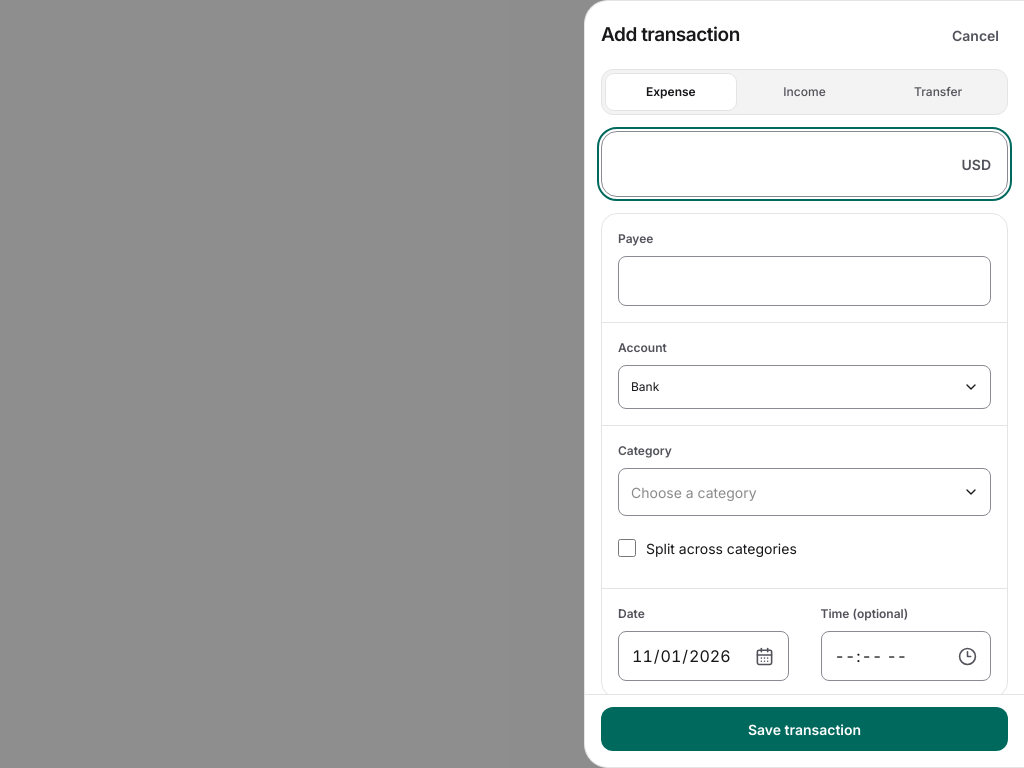
Test: has no New category button: the Category field itself offers to create a missing one
Step 1. Type "Coffee" into the dropdown labelled "Category" → (804, 492), box [618,468,991,516]
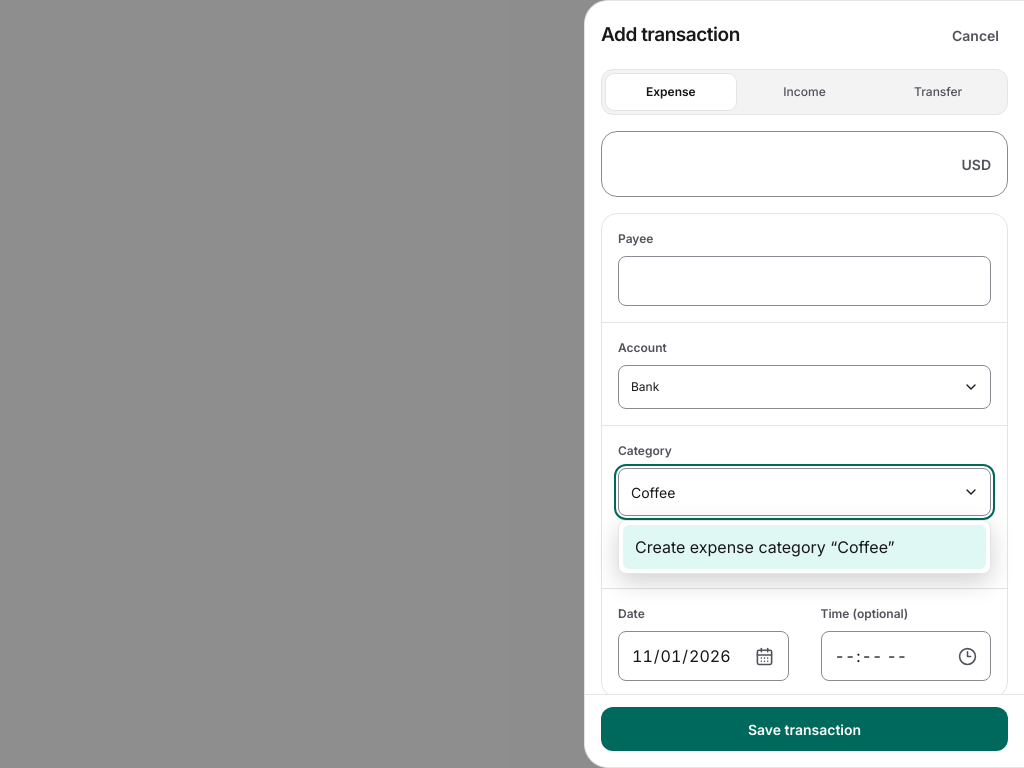
Expected: the option "Create expense category “Coffee”" is shown, [623,525,986,569]
